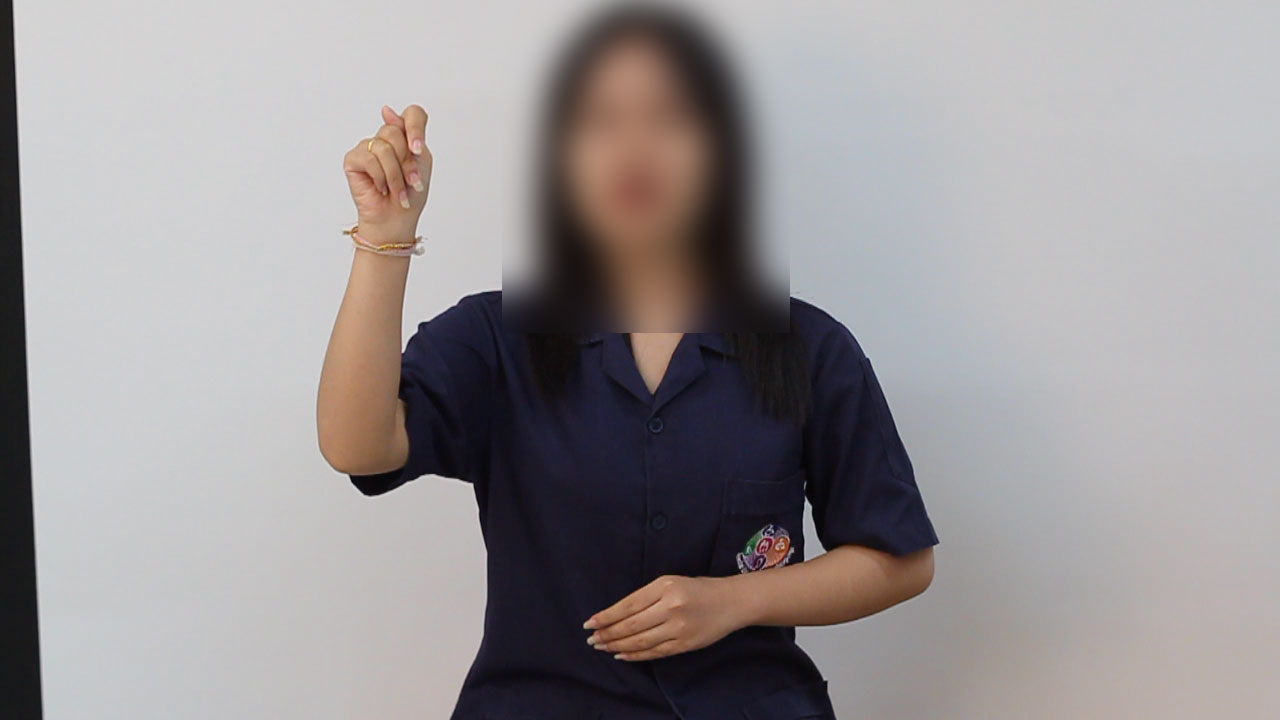tor: (317, 93, 461, 239)
